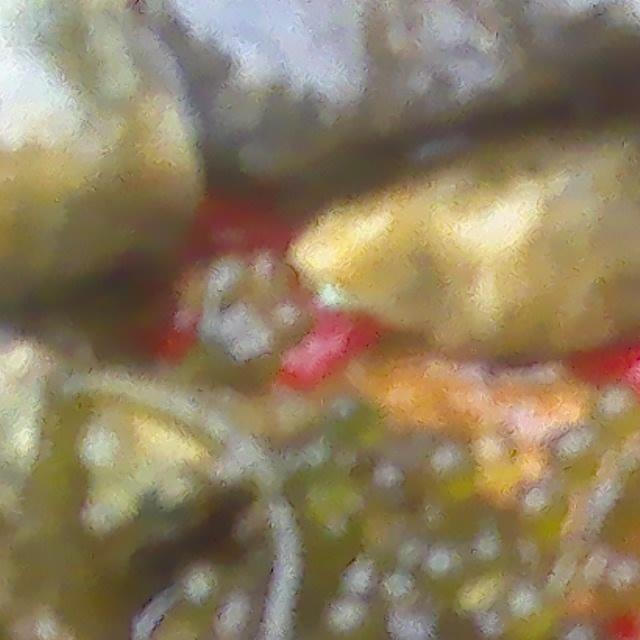SeaGrape: (325, 603, 385, 640)
